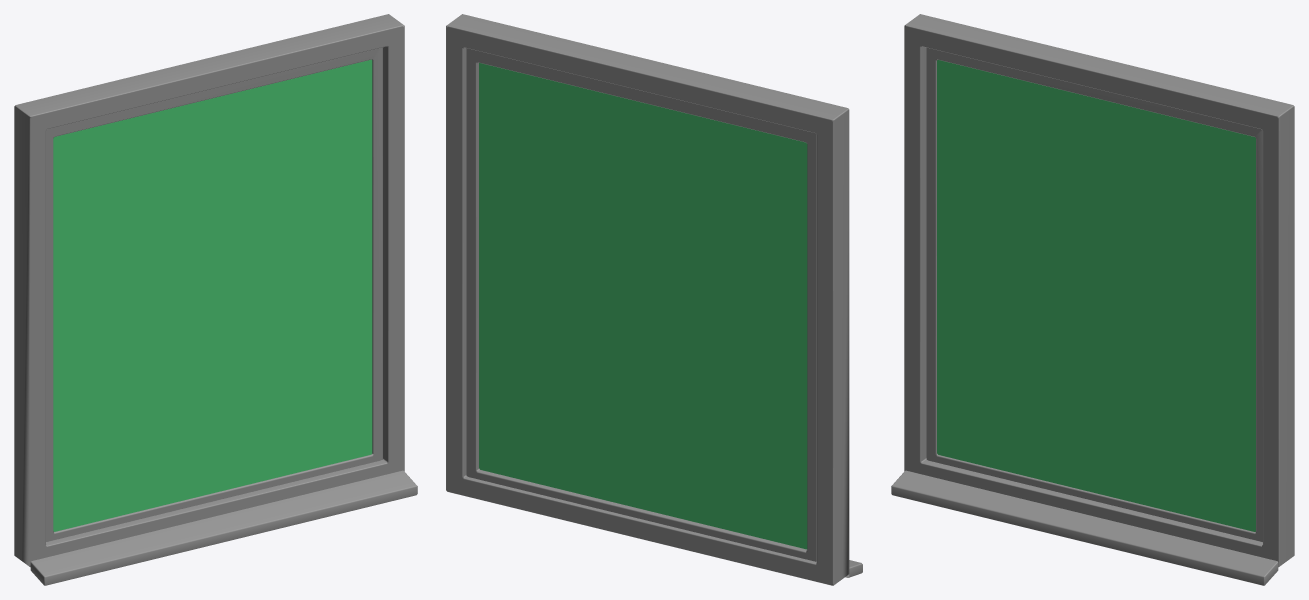
File: SM_Window_01.FBX
3 views of the same model, side by side, from view 1: azimuth 30°, elevation 25°; view 2: azimuth 150°, elevation 25°; view 3: azimuth 330°, elevation 25° (orthographic). The views are drawn at different scales.
Parts seen in each view (by area): view 1: Screens; view 2: Screens; view 3: Screens.
Part boxes in pixels (box(x1,y1,x2,y2)): Screens: box(14, 14, 417, 585); Screens: box(446, 14, 862, 585); Screens: box(891, 14, 1294, 585).
Bounding box in the file's own units: 70.12 × 82.15 × 9.6.
